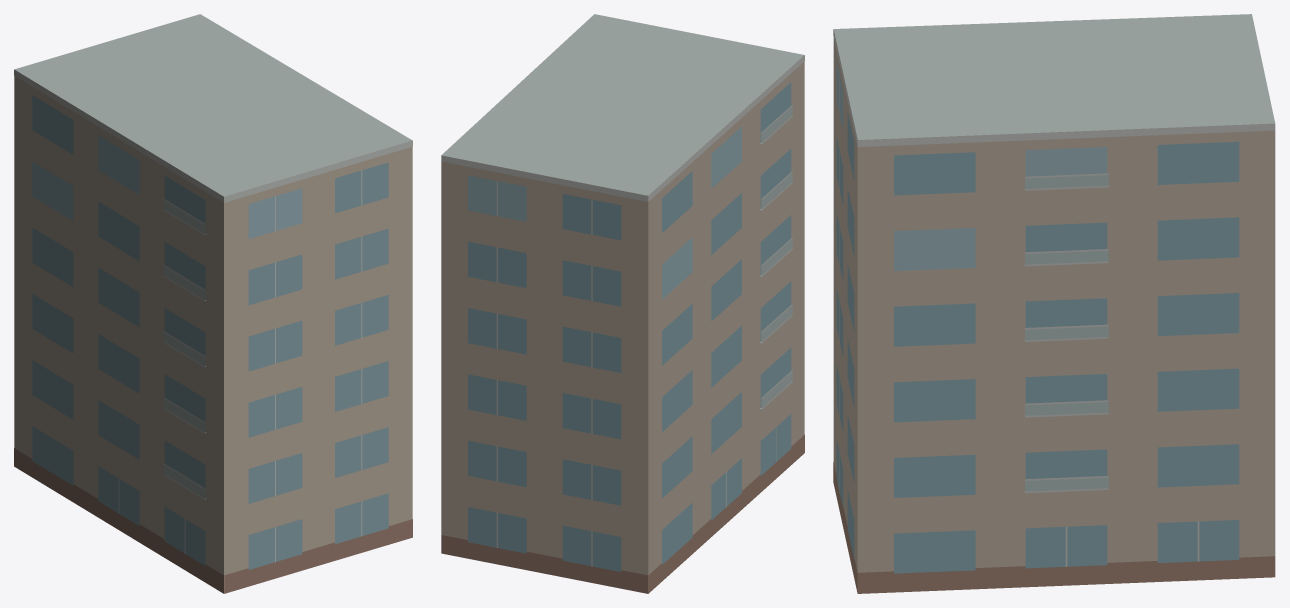
The model's file is survey-upis-32972439.glb.
3 renders of one model, left to right at view 1: azimuth 30°, elevation 25°; view 2: azimuth 150°, elevation 25°; view 3: azimuth 270°, elevation 25°, orthographic. The views are drawn at different scales.
Visible parts, largest first — view 1: survey-upis-32972439.tmp; view 2: survey-upis-32972439.tmp; view 3: survey-upis-32972439.tmp.
Part boxes in pixels (x1,y1,x2,y2): survey-upis-32972439.tmp: (14,14,412,593); survey-upis-32972439.tmp: (441,14,804,593); survey-upis-32972439.tmp: (833,14,1275,593).
Bounding box in the file's own units: 9.4 × 15.75 × 13.91.
